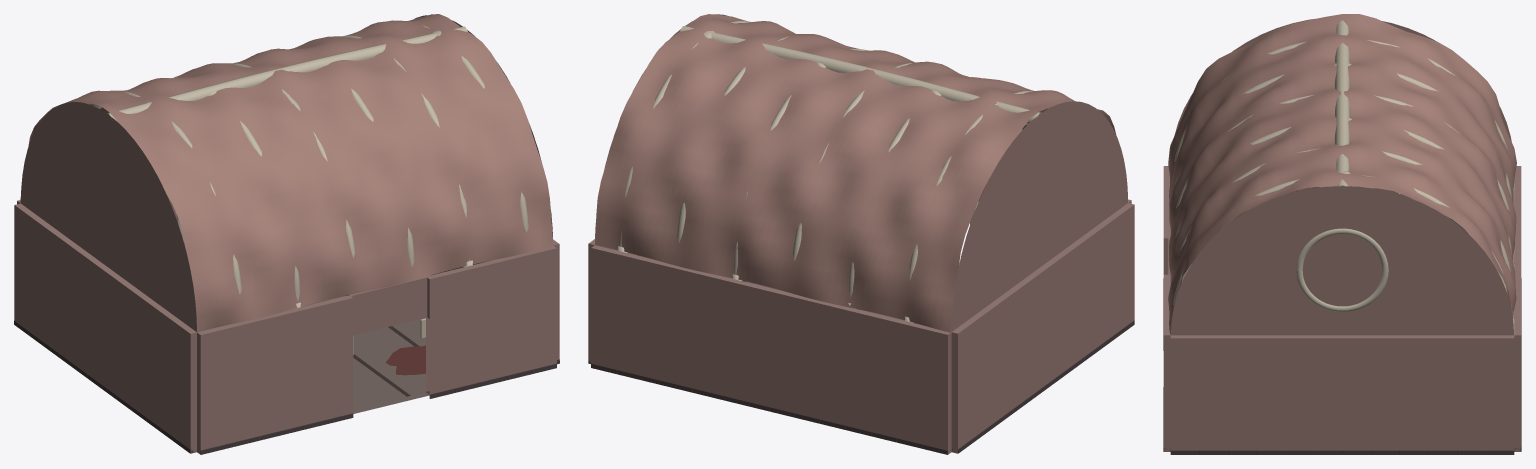
Rendered from environment.glb.
The picture shows the model from 3 angles, left to right: view 1: azimuth 30°, elevation 25°; view 2: azimuth 150°, elevation 25°; view 3: azimuth 270°, elevation 25°; orthographic projection. The views are drawn at different scales.
Parts seen in each view (by area): view 1: gullet-arena authored environment; view 2: gullet-arena authored environment; view 3: gullet-arena authored environment.
Boxes of the visible parts, bbox=[...] form: gullet-arena authored environment: bbox=[14, 14, 559, 454]; gullet-arena authored environment: bbox=[588, 14, 1134, 454]; gullet-arena authored environment: bbox=[1163, 14, 1521, 454].
Bounding box in the file's own units: 29.06 × 20.84 × 25.06.
